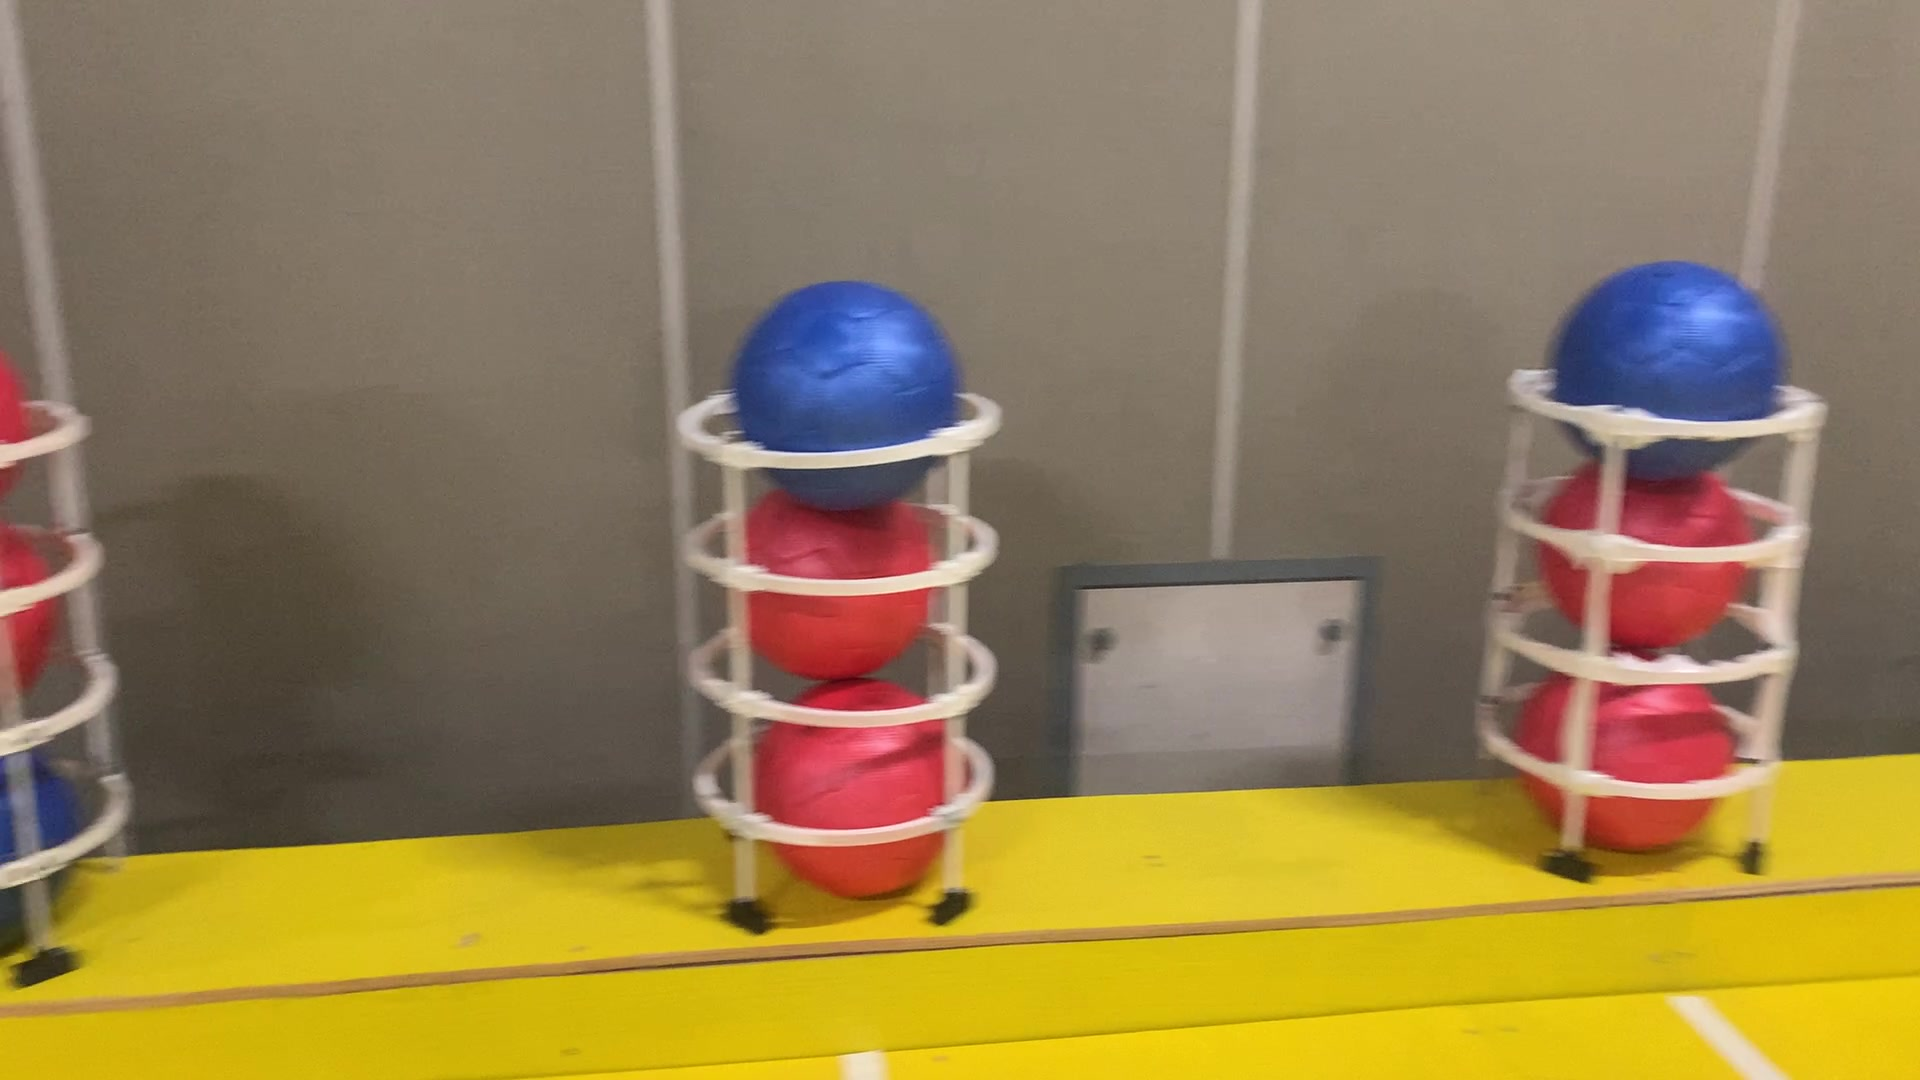blue: (1547, 252, 1791, 489), (735, 280, 964, 514), (0, 725, 87, 928)
red: (741, 671, 988, 903), (1506, 650, 1751, 865), (1544, 448, 1754, 662), (728, 483, 939, 675), (0, 508, 66, 712), (0, 345, 28, 512)
